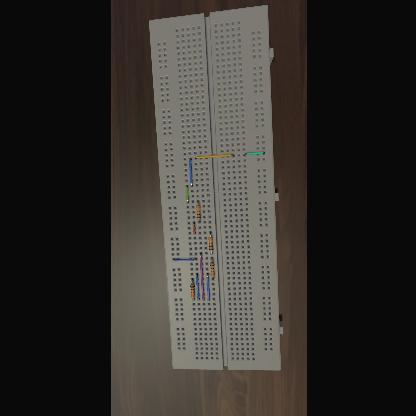breadboard: (148, 6, 282, 370)
resistor: (208, 263, 214, 277), (194, 205, 199, 219), (188, 284, 193, 298), (208, 237, 212, 251)
wire: (193, 154, 232, 160), (199, 253, 203, 301), (188, 158, 192, 186), (171, 258, 195, 262), (242, 152, 263, 156), (206, 273, 209, 301), (184, 186, 188, 202), (196, 274, 198, 300), (192, 222, 194, 234), (190, 278, 192, 284), (210, 258, 212, 262), (208, 232, 210, 236), (196, 202, 198, 204), (211, 277, 212, 279), (209, 252, 210, 254), (198, 220, 198, 224), (192, 298, 192, 300)
